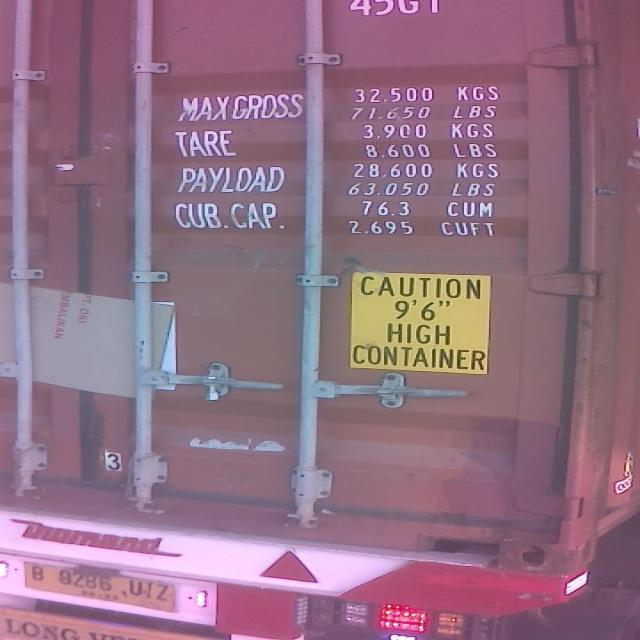seal: (199, 374, 230, 407)
